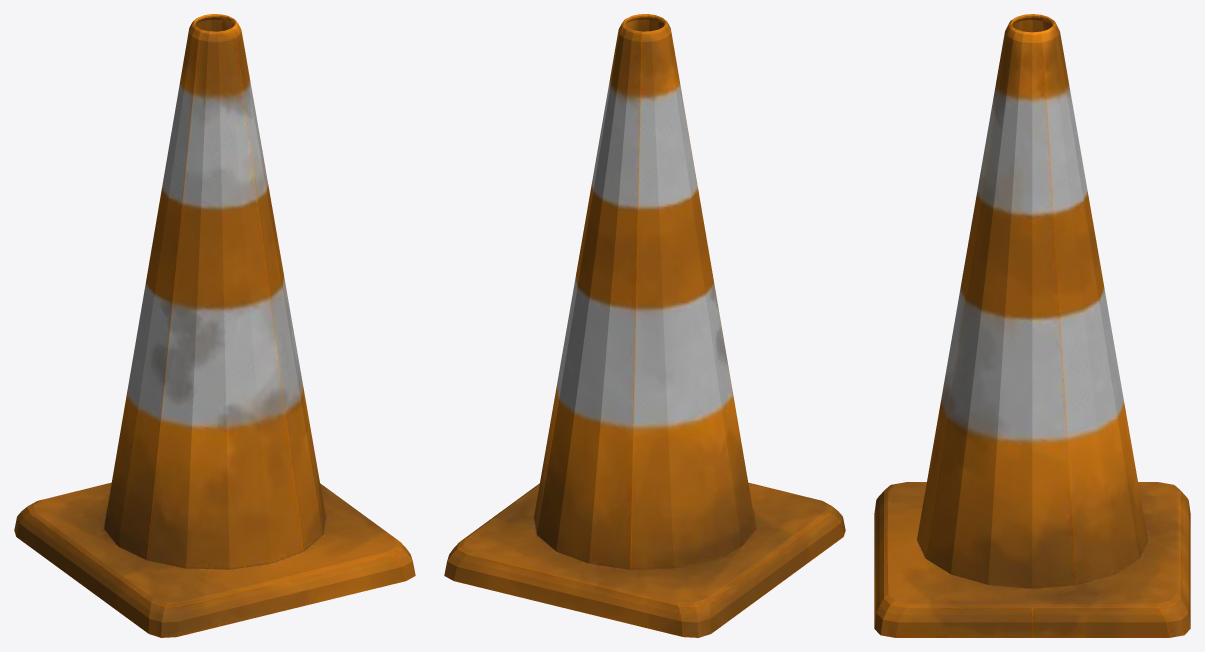
File: strProp_10.glb
3 renders of one model, left to right at view 1: azimuth 30°, elevation 25°; view 2: azimuth 150°, elevation 25°; view 3: azimuth 270°, elevation 25°, orthographic. The views are drawn at different scales.
Parts seen in each view (by area): view 1: geometry_0; view 2: geometry_0; view 3: geometry_0.
Boxes of the visible parts, x1=… form: geometry_0: x1=14, y1=14, x2=415, y2=637; geometry_0: x1=444, y1=14, x2=845, y2=637; geometry_0: x1=874, y1=14, x2=1190, y2=637.
Size of the model in its own units: 0.2615 by 0.5002 by 0.2615.
Materials: 1 (1 with a texture image).
